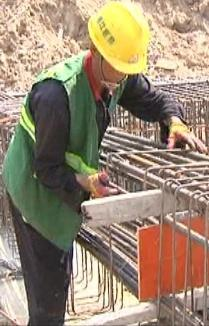gloves: (166, 118, 208, 155), (76, 171, 119, 199)
hard-hat: (87, 1, 150, 75)
vest: (0, 49, 188, 252)
